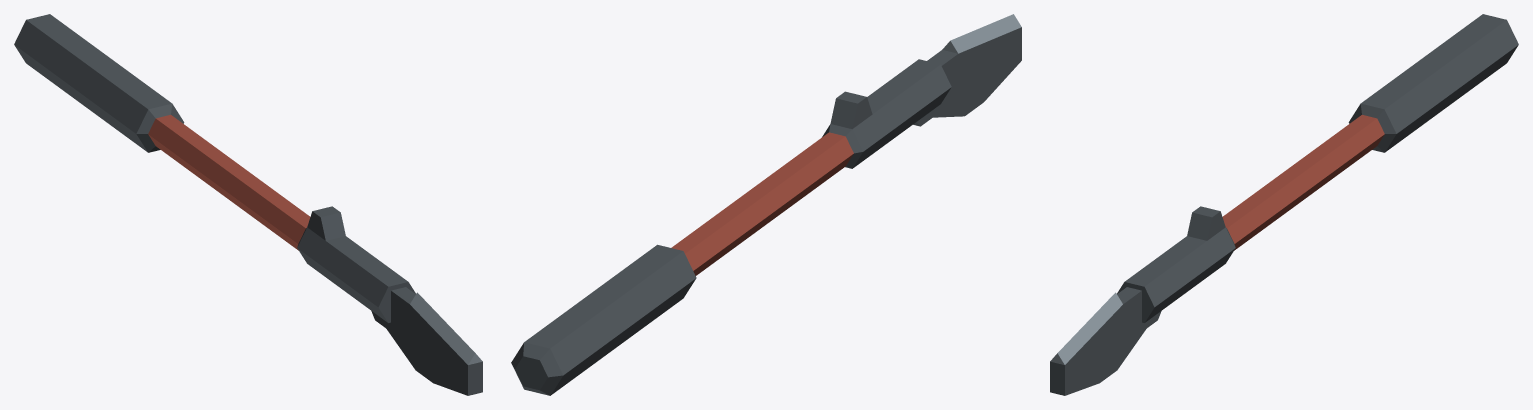
The model's file is SM_Prop_BoltCutters_01_Handle_02.fbx.
3 views of the same model, side by side, from view 1: azimuth 30°, elevation 25°; view 2: azimuth 150°, elevation 25°; view 3: azimuth 330°, elevation 25° (orthographic). The views are drawn at different scales.
Parts seen in each view (by area): view 1: SM_Prop_BoltCutters_01_Handle_02; view 2: SM_Prop_BoltCutters_01_Handle_02; view 3: SM_Prop_BoltCutters_01_Handle_02.
Boxes of the visible parts, box(x1,y1,x2,y2) form: SM_Prop_BoltCutters_01_Handle_02: box(14, 14, 482, 395); SM_Prop_BoltCutters_01_Handle_02: box(511, 14, 1021, 395); SM_Prop_BoltCutters_01_Handle_02: box(1050, 14, 1518, 395).
Bounding box in the file's own units: 5.86 × 10.04 × 93.59.
